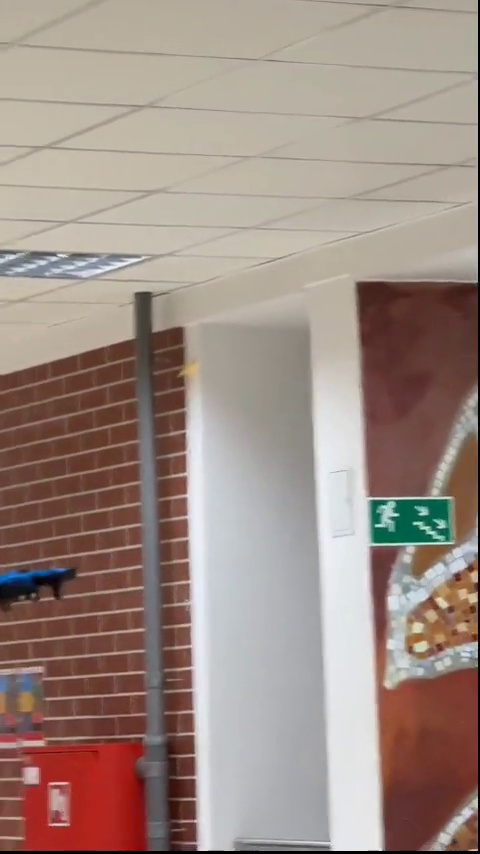drone: (0, 559, 77, 614)
